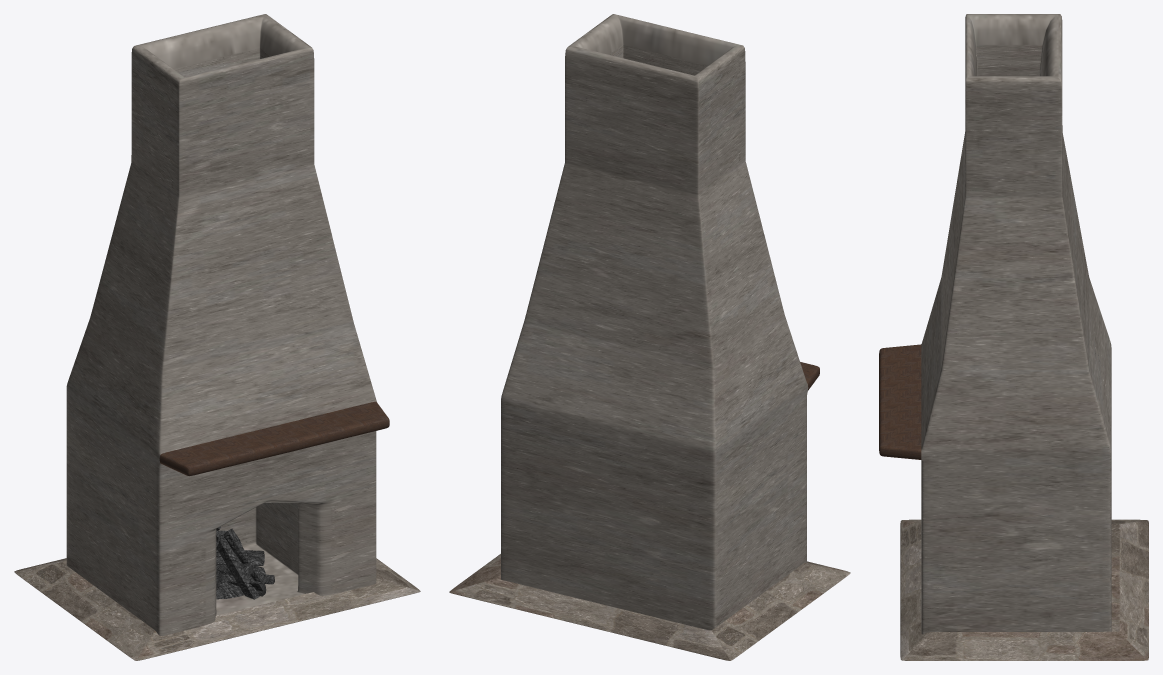
File: kamina.fbx
The picture shows the model from 3 angles, left to right: view 1: azimuth 30°, elevation 25°; view 2: azimuth 150°, elevation 25°; view 3: azimuth 270°, elevation 25°; orthographic projection. The views are drawn at different scales.
Parts seen in each view (by area): view 1: FirePlace, FirePlace.002, FirePlace.001, bonfire; view 2: FirePlace, FirePlace.002; view 3: FirePlace, FirePlace.002, FirePlace.001.
Boxes of the visible parts, x1,y1,x2,y2 form: FirePlace: [66, 14, 376, 635]; FirePlace.002: [14, 558, 420, 660]; FirePlace.001: [159, 401, 389, 476]; bonfire: [216, 526, 274, 599]; FirePlace: [501, 14, 808, 630]; FirePlace.002: [449, 554, 850, 660]; FirePlace: [921, 14, 1111, 634]; FirePlace.002: [900, 519, 1148, 660]; FirePlace.001: [879, 344, 921, 459].
Bounding box in the file's own units: 178 × 327 × 144.
